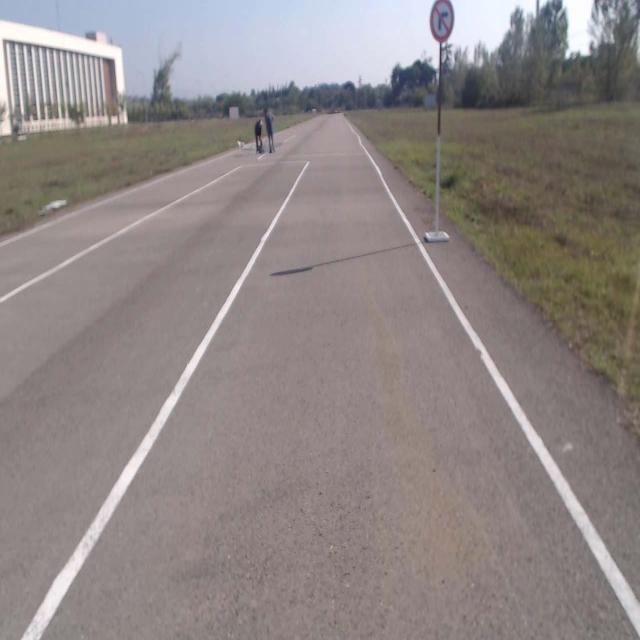sagadonulmez: (430, 2, 453, 42)
